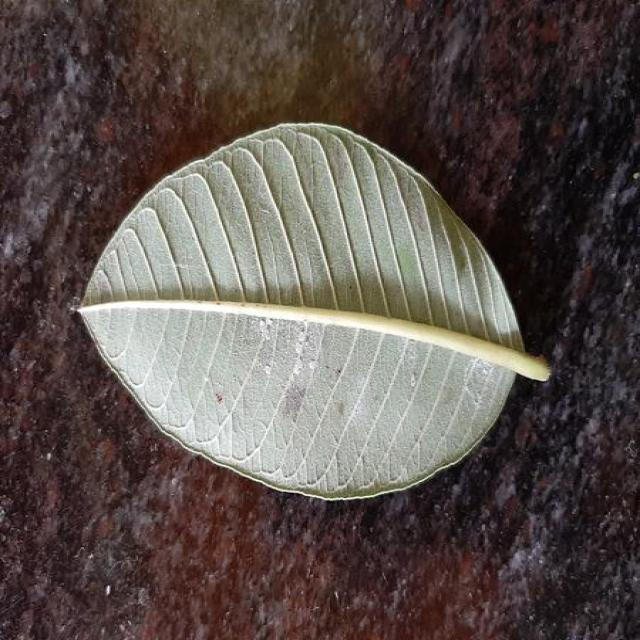leaf: (72, 120, 551, 501)
